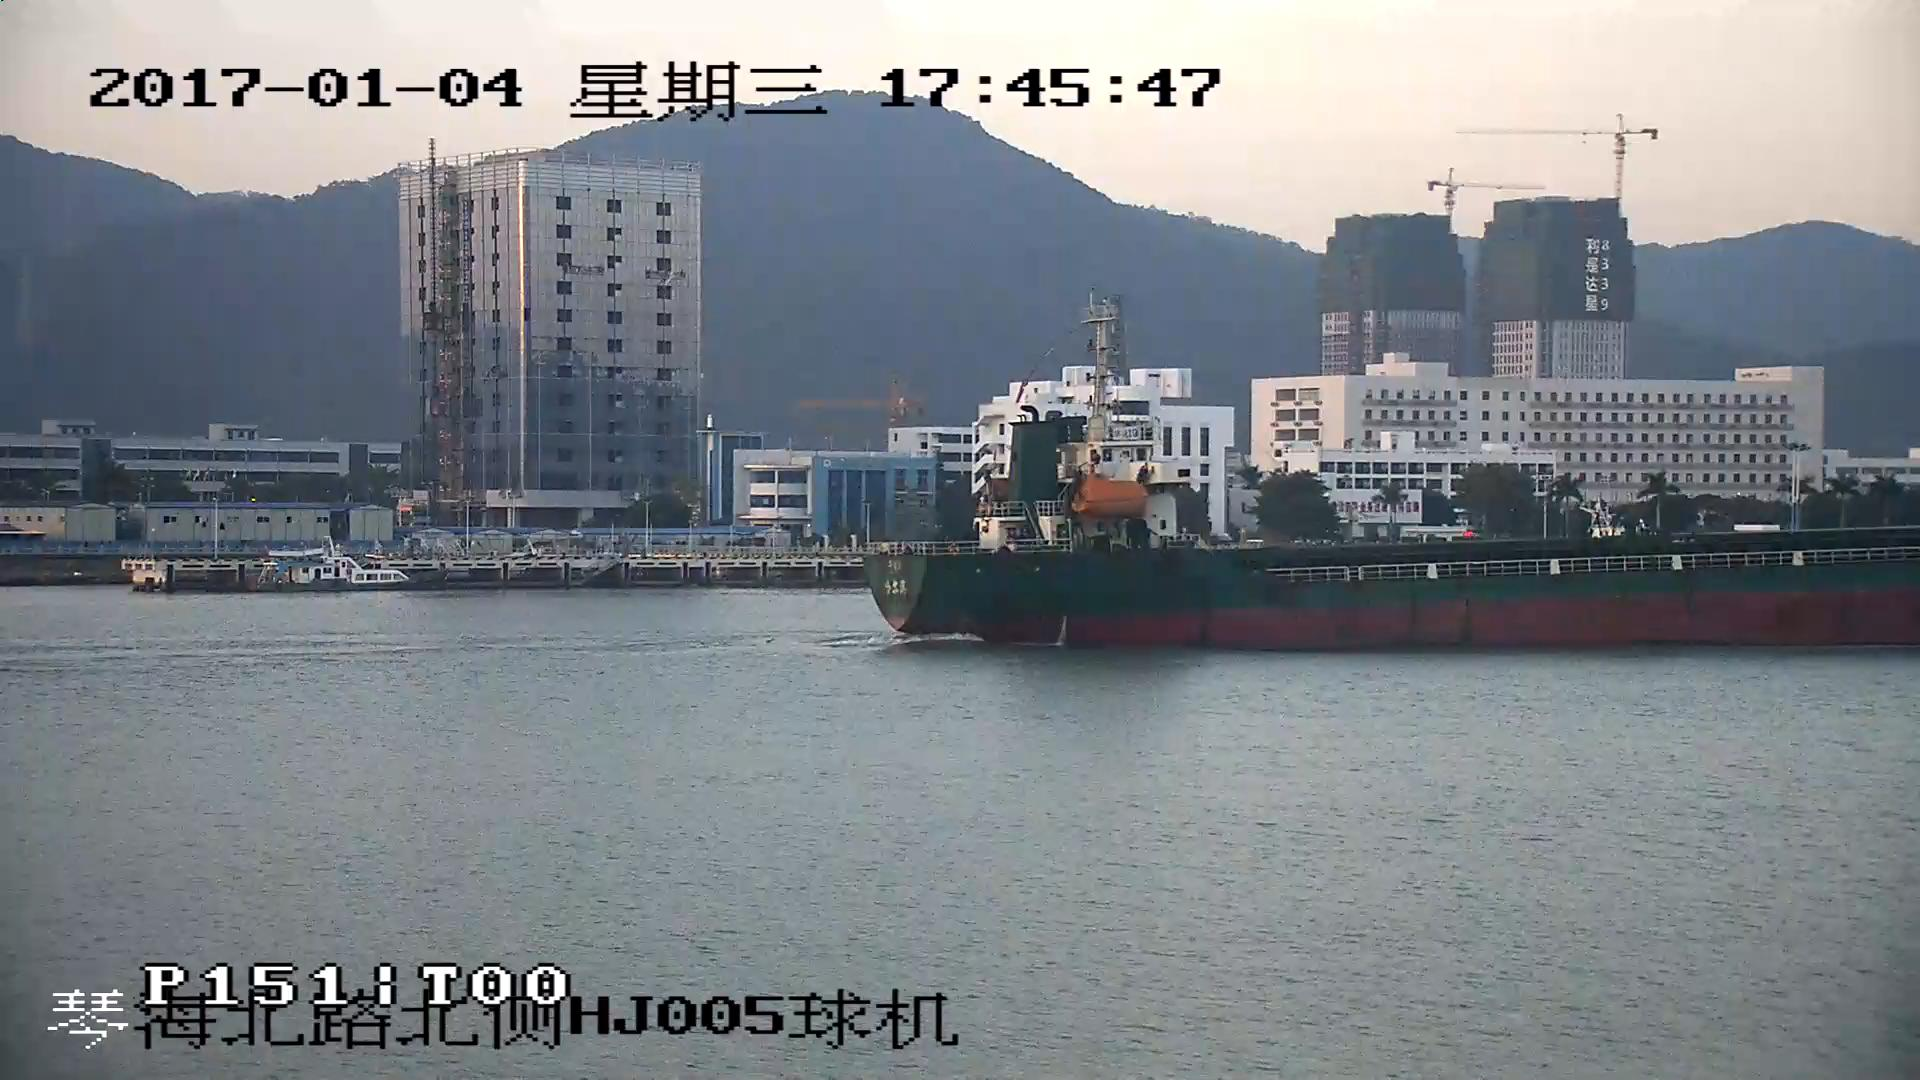general cargo ship: (863, 299, 1920, 655)
